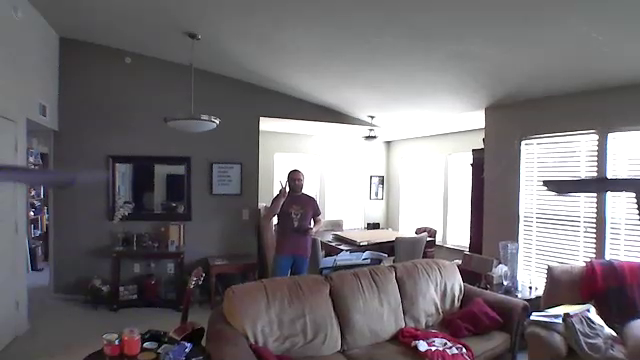peace: (275, 175, 292, 200)
